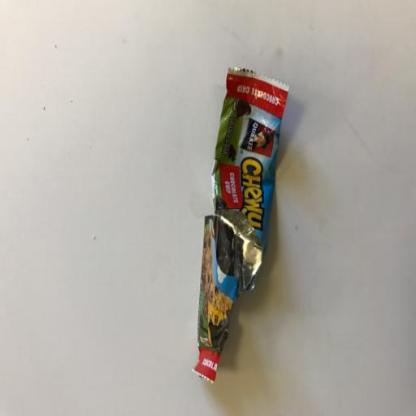trash: (195, 64, 291, 390)
